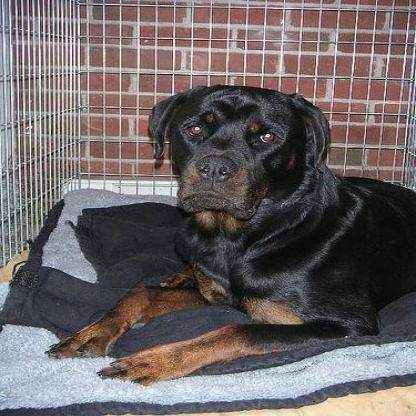Rottweiler: (44, 85, 413, 383)
